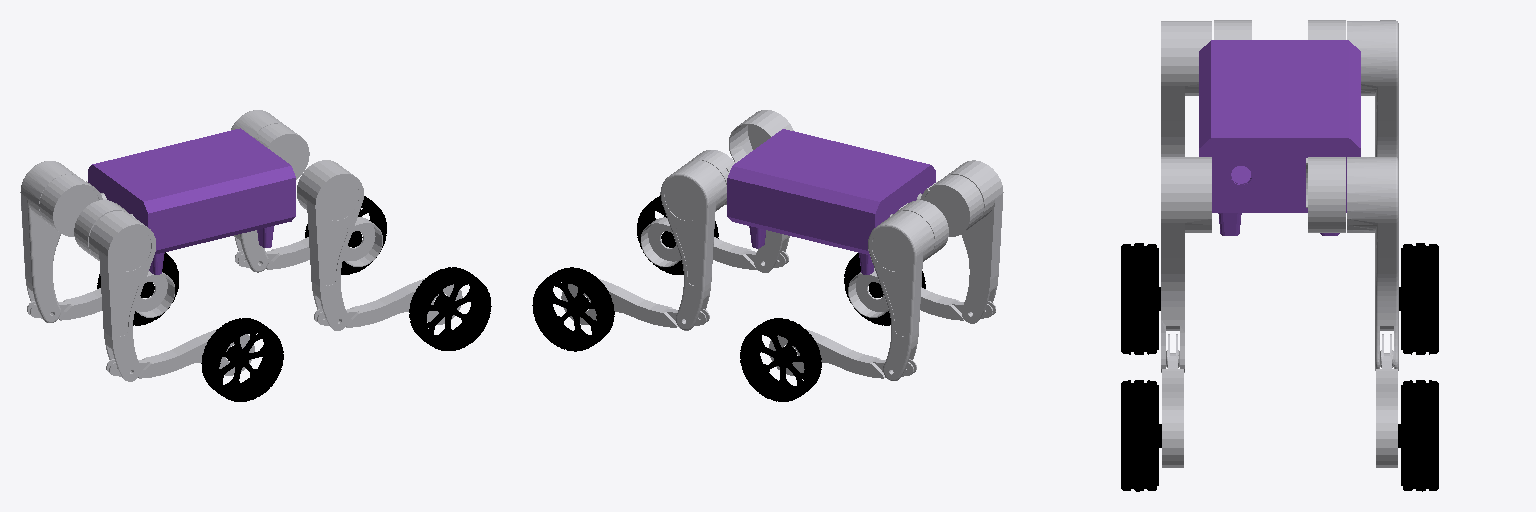
URDF robot description (dhav1w):
<?xml version="1.0" encoding="utf-8"?>
<!-- DHAV 1.3 wheeled (dhav1w).  Generated from the SolidWorks export
     "XTR_Dummy_Wheeled_DHAV_1.3_4 - V1.1" with corrected calf inertia pose
     and corrected left/right thigh inertia symmetry.  See ../NOTES.md. -->
<robot name="dhav1w">
  <mujoco>
    <compiler meshdir="../meshes/" discardvisual="false"/>
  </mujoco>
  <material name="purple">
    <color rgba="0.541 0.337 0.722 1.0"/>
  </material>
  <material name="aluminium">
    <color rgba="0.8 0.8 0.82 1.0"/>
  </material>
  <material name="black">
    <color rgba="0.0 0.0 0.0 1.0"/>
  </material>
  <link name="base">
    <inertial>
      <origin xyz="0 0 -0.011647" rpy="0 0 0"/>
      <mass value="7.87906075"/>
      <inertia ixx="0.03603948" ixy="-0.00013803" ixz="-0.00007439" iyy="0.09487694" iyz="0.00002758" izz="0.11626709" />
    </inertial>
    <visual>
      <origin xyz="0 0 0" rpy="0 0 0"/>
      <geometry>
        <mesh filename="package://dhav1w_description/meshes/torso.STL"/>
      </geometry>
      <material name="purple"/>
    </visual>
    <collision>
      <origin xyz="0 0 0" rpy="0 0 0"/>
      <geometry>
        <box size="0.3562 0.20 0.114"/>
      </geometry>
    </collision>
    <collision>
      <origin xyz="0.12 0.07 -0.082" rpy="0 0 0"/>
      <geometry>
        <box size="0.02 0.03 0.05"/>
      </geometry>
    </collision>
    <collision>
      <origin xyz="0.12 -0.07 -0.082" rpy="0 0 0"/>
      <geometry>
        <box size="0.02 0.03 0.05"/>
      </geometry>
    </collision>
    <collision>
      <origin xyz="-0.12 0.07 -0.082" rpy="0 0 0"/>
      <geometry>
        <box size="0.02 0.03 0.05"/>
      </geometry>
    </collision>
    <collision>
      <origin xyz="-0.12 -0.07 -0.082" rpy="0 0 0"/>
      <geometry>
        <box size="0.02 0.03 0.05"/>
      </geometry>
    </collision>
  </link>
  <!-- IMU link -->
  <link name="imu_link"/>
  <joint name="base_to_imu" type="fixed">
    <parent link="base"/>
    <child link="imu_link"/>
    <origin xyz="0.07623 0.00875 0.00705" rpy="0 0 0"/>
  </joint>
  <link name="FL_hip_link">
    <inertial>
      <origin xyz="-0.0057414 0.0030508 -0.00000015" rpy="0 0 0"/>
      <mass value="0.81144848"/>
      <inertia ixx="0.00046498" ixy="0.00001172" ixz="-0.00000013" iyy="0.00097192" iyz="0.00000004" izz="0.000712" />
    </inertial>
    <visual>
      <origin xyz="0 0 0" rpy="0 0 0"/>
      <geometry>
        <mesh filename="package://dhav1w_description/meshes/FL_hip.STL"/>
      </geometry>
      <material name="aluminium"/>
    </visual>
    <collision>
      <origin xyz="0.0 0.06 0.0" rpy="1.57 0 0"/>
      <geometry>
        <cylinder length="0.1" radius="0.046"/>
      </geometry>
    </collision>
  </link>
  <link name="FL_thigh_link">
    <inertial>
      <origin xyz="-0.0074643 -0.0075133 -0.074231" rpy="0 0 0"/>
      <mass value="1.38185132"/>
      <inertia ixx="0.00817916" ixy="-0.00006601" ixz="0.00029421" iyy="0.00820121" iyz="-0.00099956" izz="0.00129555" />
    </inertial>
    <visual>
      <origin xyz="0 0 0" rpy="0 0 0"/>
      <geometry>
        <mesh filename="package://dhav1w_description/meshes/FL_thigh.STL"/>
      </geometry>
      <material name="aluminium"/>
    </visual>
    <collision>
      <origin xyz="-0.025 0.0 -0.13" rpy="0 -0.08 0"/>
      <geometry>
        <box size="0.03 0.02 0.15"/>
      </geometry>
    </collision>
    <collision>
      <origin xyz="0.0 0.0 -0.1" rpy="0 0.3 0"/>
      <geometry>
        <box size="0.03 0.02 0.09"/>
      </geometry>
    </collision>
  </link>
  <link name="FL_calf_link">
    <inertial>
      <origin xyz="0.0040567 0.00122578 -0.11950147" rpy="0 0 0"/>
      <mass value="0.65370687"/>
      <inertia ixx="0.0039675" ixy="-0.00000137" ixz="-0.00004951" iyy="0.00414518" iyz="0.00002014" izz="0.00028379" />
    </inertial>
    <visual>
      <origin xyz="0 0 0" rpy="0 0 0"/>
      <geometry>
        <mesh filename="package://dhav1w_description/meshes/FL_calf.STL"/>
      </geometry>
      <material name="aluminium"/>
    </visual>
    <collision>
      <origin xyz="-0.005 0.0 -0.02" rpy="0 0 0"/>
      <geometry>
        <cylinder length="0.04" radius="0.015"/>
      </geometry>
    </collision>
    <collision>
      <origin xyz="0.005 0.0 -0.11" rpy="0 -0.2 0"/>
      <geometry>
        <cylinder length="0.16" radius="0.015"/>
      </geometry>
    </collision>
    <collision>
      <origin xyz="0.017 0.0 -0.205" rpy="0 0.3 0"/>
      <geometry>
        <cylinder length="0.06" radius="0.015"/>
      </geometry>
    </collision>
  </link>
  <link name="FL_wheel">
    <inertial>
      <origin xyz="0.00000026 -0.0038565 0.00000018" rpy="0 0 0"/>
      <mass value="0.50020858"/>
      <inertia ixx="0.00103971" ixy="0" ixz="0" iyy="0.00187556" iyz="0" izz="0.00103971" />
    </inertial>
    <visual>
      <origin xyz="0 0 0" rpy="0 0 0"/>
      <geometry>
        <mesh filename="package://dhav1w_description/meshes/FL_wheel.STL"/>
      </geometry>
      <material name="black"/>
    </visual>
    <collision>
      <origin xyz="0 0 0" rpy="1.5708 0 0"/>
      <geometry>
        <cylinder length="0.052" radius="0.077"/>
      </geometry>
    </collision>
  </link>
  <link name="FR_hip_link">
    <inertial>
      <origin xyz="-0.0057414 -0.0030508 0.00000015" rpy="0 0 0"/>
      <mass value="0.81144848"/>
      <inertia ixx="0.00046498" ixy="-0.00001172" ixz="0.00000013" iyy="0.00097192" iyz="0.00000004" izz="0.000712" />
    </inertial>
    <visual>
      <origin xyz="0 0 0" rpy="0 0 0"/>
      <geometry>
        <mesh filename="package://dhav1w_description/meshes/FR_hip.STL"/>
      </geometry>
      <material name="aluminium"/>
    </visual>
    <collision>
      <origin xyz="0.0 -0.06 0.0" rpy="1.57 0 0"/>
      <geometry>
        <cylinder length="0.1" radius="0.046"/>
      </geometry>
    </collision>
  </link>
  <link name="FR_thigh_link">
    <inertial>
      <origin xyz="-0.0074643 0.0075133 -0.074231" rpy="0 0 0"/>
      <mass value="1.38185132"/>
      <inertia ixx="0.00817916" ixy="0.00006601" ixz="0.00029421" iyy="0.00820121" iyz="0.00099956" izz="0.00129555" />
    </inertial>
    <visual>
      <origin xyz="0 0 0" rpy="0 0 0"/>
      <geometry>
        <mesh filename="package://dhav1w_description/meshes/FR_thigh.STL"/>
      </geometry>
      <material name="aluminium"/>
    </visual>
    <collision>
      <origin xyz="-0.025 0.0 -0.13" rpy="0 -0.08 0"/>
      <geometry>
        <box size="0.03 0.02 0.15"/>
      </geometry>
    </collision>
    <collision>
      <origin xyz="0.0 0.0 -0.1" rpy="0 0.3 0"/>
      <geometry>
        <box size="0.03 0.02 0.09"/>
      </geometry>
    </collision>
  </link>
  <link name="FR_calf_link">
    <inertial>
      <origin xyz="0.0040567 -0.00122578 -0.11950147" rpy="0 0 0"/>
      <mass value="0.65370687"/>
      <inertia ixx="0.0039675" ixy="0.00000137" ixz="-0.00004951" iyy="0.00414518" iyz="-0.00002014" izz="0.00028379" />
    </inertial>
    <visual>
      <origin xyz="0 0 0" rpy="0 0 0"/>
      <geometry>
        <mesh filename="package://dhav1w_description/meshes/FR_calf.STL"/>
      </geometry>
      <material name="aluminium"/>
    </visual>
    <collision>
      <origin xyz="-0.005 0.0 -0.02" rpy="0 0 0"/>
      <geometry>
        <cylinder length="0.04" radius="0.015"/>
      </geometry>
    </collision>
    <collision>
      <origin xyz="0.005 0.0 -0.11" rpy="0 -0.2 0"/>
      <geometry>
        <cylinder length="0.16" radius="0.015"/>
      </geometry>
    </collision>
    <collision>
      <origin xyz="0.017 0.0 -0.205" rpy="0 0.3 0"/>
      <geometry>
        <cylinder length="0.06" radius="0.015"/>
      </geometry>
    </collision>
  </link>
  <link name="FR_wheel">
    <inertial>
      <origin xyz="0.00000026 0.0038565 -0.00000018" rpy="0 0 0"/>
      <mass value="0.50020858"/>
      <inertia ixx="0.00103971" ixy="0" ixz="0" iyy="0.00187556" iyz="0" izz="0.00103971" />
    </inertial>
    <visual>
      <origin xyz="0 0 0" rpy="0 0 0"/>
      <geometry>
        <mesh filename="package://dhav1w_description/meshes/FR_wheel.STL"/>
      </geometry>
      <material name="black"/>
    </visual>
    <collision>
      <origin xyz="0 0 0" rpy="1.5708 0 0"/>
      <geometry>
        <cylinder length="0.052" radius="0.077"/>
      </geometry>
    </collision>
  </link>
  <link name="RL_hip_link">
    <inertial>
      <origin xyz="0.0057414 0.0030508 0.00000015" rpy="0 0 0"/>
      <mass value="0.81144848"/>
      <inertia ixx="0.00046498" ixy="-0.00001172" ixz="-0.00000013" iyy="0.00097192" iyz="-0.00000004" izz="0.000712" />
    </inertial>
    <visual>
      <origin xyz="0 0 0" rpy="0 0 0"/>
      <geometry>
        <mesh filename="package://dhav1w_description/meshes/RL_hip.STL"/>
      </geometry>
      <material name="aluminium"/>
    </visual>
    <collision>
      <origin xyz="0.0 0.06 0.0" rpy="1.57 0 0"/>
      <geometry>
        <cylinder length="0.1" radius="0.046"/>
      </geometry>
    </collision>
  </link>
  <link name="RL_thigh_link">
    <inertial>
      <origin xyz="-0.0074643 -0.0075133 -0.074231" rpy="0 0 0"/>
      <mass value="1.38185132"/>
      <inertia ixx="0.00817916" ixy="-0.00006601" ixz="0.00029421" iyy="0.00820121" iyz="-0.00099956" izz="0.00129555" />
    </inertial>
    <visual>
      <origin xyz="0 0 0" rpy="0 0 0"/>
      <geometry>
        <mesh filename="package://dhav1w_description/meshes/RL_thigh.STL"/>
      </geometry>
      <material name="aluminium"/>
    </visual>
    <collision>
      <origin xyz="-0.025 0.0 -0.13" rpy="0 -0.08 0"/>
      <geometry>
        <box size="0.03 0.02 0.15"/>
      </geometry>
    </collision>
    <collision>
      <origin xyz="0.0 0.0 -0.1" rpy="0 0.3 0"/>
      <geometry>
        <box size="0.03 0.02 0.09"/>
      </geometry>
    </collision>
  </link>
  <link name="RL_calf_link">
    <inertial>
      <origin xyz="0.0040567 0.0012258 -0.1195" rpy="0 0 0"/>
      <mass value="0.6537291"/>
      <inertia ixx="0.00396804" ixy="-0.00000136" ixz="-0.0000496" iyy="0.00414573" iyz="0.00002012" izz="0.0002838" />
    </inertial>
    <visual>
      <origin xyz="0 0 0" rpy="0 0 0"/>
      <geometry>
        <mesh filename="package://dhav1w_description/meshes/RL_calf.STL"/>
      </geometry>
      <material name="aluminium"/>
    </visual>
    <collision>
      <origin xyz="-0.005 0.0 -0.02" rpy="0 0 0"/>
      <geometry>
        <cylinder length="0.04" radius="0.015"/>
      </geometry>
    </collision>
    <collision>
      <origin xyz="0.005 0.0 -0.11" rpy="0 -0.2 0"/>
      <geometry>
        <cylinder length="0.16" radius="0.015"/>
      </geometry>
    </collision>
    <collision>
      <origin xyz="0.017 0.0 -0.205" rpy="0 0.3 0"/>
      <geometry>
        <cylinder length="0.06" radius="0.015"/>
      </geometry>
    </collision>
  </link>
  <link name="RL_wheel">
    <inertial>
      <origin xyz="-0.0000003 -0.0038565 -0.00000009" rpy="0 0 0"/>
      <mass value="0.50020858"/>
      <inertia ixx="0.00103971" ixy="0" ixz="0" iyy="0.00187556" iyz="0" izz="0.00103971" />
    </inertial>
    <visual>
      <origin xyz="0 0 0" rpy="0 0 0"/>
      <geometry>
        <mesh filename="package://dhav1w_description/meshes/RL_wheel.STL"/>
      </geometry>
      <material name="black"/>
    </visual>
    <collision>
      <origin xyz="0 0 0" rpy="1.5708 0 0"/>
      <geometry>
        <cylinder length="0.052" radius="0.077"/>
      </geometry>
    </collision>
  </link>
  <link name="RR_hip_link">
    <inertial>
      <origin xyz="0.0057414 -0.0030508 -0.00000015" rpy="0 0 0"/>
      <mass value="0.81144848"/>
      <inertia ixx="0.00046498" ixy="0.00001172" ixz="0.00000013" iyy="0.00097192" iyz="-0.00000004" izz="0.000712" />
    </inertial>
    <visual>
      <origin xyz="0 0 0" rpy="0 0 0"/>
      <geometry>
        <mesh filename="package://dhav1w_description/meshes/RR_hip.STL"/>
      </geometry>
      <material name="aluminium"/>
    </visual>
    <collision>
      <origin xyz="0.0 -0.06 0.0" rpy="1.57 0 0"/>
      <geometry>
        <cylinder length="0.1" radius="0.046"/>
      </geometry>
    </collision>
  </link>
  <link name="RR_thigh_link">
    <inertial>
      <origin xyz="-0.0074643 0.0075133 -0.074231" rpy="0 0 0"/>
      <mass value="1.38185132"/>
      <inertia ixx="0.00817916" ixy="0.00006601" ixz="0.00029421" iyy="0.00820121" iyz="0.00099956" izz="0.00129555" />
    </inertial>
    <visual>
      <origin xyz="0 0 0" rpy="0 0 0"/>
      <geometry>
        <mesh filename="package://dhav1w_description/meshes/RR_thigh.STL"/>
      </geometry>
      <material name="aluminium"/>
    </visual>
    <collision>
      <origin xyz="-0.025 0.0 -0.13" rpy="0 -0.08 0"/>
      <geometry>
        <box size="0.03 0.02 0.15"/>
      </geometry>
    </collision>
    <collision>
      <origin xyz="0.0 0.0 -0.1" rpy="0 0.3 0"/>
      <geometry>
        <box size="0.03 0.02 0.09"/>
      </geometry>
    </collision>
  </link>
  <link name="RR_calf_link">
    <inertial>
      <origin xyz="0.0040567 -0.0012258 -0.1195" rpy="0 0 0"/>
      <mass value="0.6537291"/>
      <inertia ixx="0.00396804" ixy="0.00000136" ixz="-0.0000496" iyy="0.00414573" iyz="-0.00002012" izz="0.0002838" />
    </inertial>
    <visual>
      <origin xyz="0 0 0" rpy="0 0 0"/>
      <geometry>
        <mesh filename="package://dhav1w_description/meshes/RR_calf.STL"/>
      </geometry>
      <material name="aluminium"/>
    </visual>
    <collision>
      <origin xyz="-0.005 0.0 -0.02" rpy="0 0 0"/>
      <geometry>
        <cylinder length="0.04" radius="0.015"/>
      </geometry>
    </collision>
    <collision>
      <origin xyz="0.005 0.0 -0.11" rpy="0 -0.2 0"/>
      <geometry>
        <cylinder length="0.16" radius="0.015"/>
      </geometry>
    </collision>
    <collision>
      <origin xyz="0.017 0.0 -0.205" rpy="0 0.3 0"/>
      <geometry>
        <cylinder length="0.06" radius="0.015"/>
      </geometry>
    </collision>
  </link>
  <link name="RR_wheel">
    <inertial>
      <origin xyz="-0.00000005 0.0038565 -0.00000031" rpy="0 0 0"/>
      <mass value="0.50020858"/>
      <inertia ixx="0.00103971" ixy="0" ixz="0" iyy="0.00187556" iyz="0" izz="0.00103971" />
    </inertial>
    <visual>
      <origin xyz="0 0 0" rpy="0 0 0"/>
      <geometry>
        <mesh filename="package://dhav1w_description/meshes/RR_wheel.STL"/>
      </geometry>
      <material name="black"/>
    </visual>
    <collision>
      <origin xyz="0 0 0" rpy="1.5708 0 0"/>
      <geometry>
        <cylinder length="0.052" radius="0.077"/>
      </geometry>
    </collision>
  </link>
  <joint name="FL_hip_joint" type="revolute">
    <origin xyz="0.2235 0.0535 0" rpy="0 0 0"/>
    <parent link="base"/>
    <child link="FL_hip_link"/>
    <axis xyz="1 0 0"/>
    <limit lower="-0.8378" upper="0.8378" effort="40" velocity="6.8"/>
  </joint>
  <joint name="FL_thigh_joint" type="revolute">
    <origin xyz="0 0.09435 0" rpy="0 0 0"/>
    <parent link="FL_hip_link"/>
    <child link="FL_thigh_link"/>
    <axis xyz="0 1 0"/>
    <limit lower="-1.7169" upper="2.5758" effort="40" velocity="6.8"/>
  </joint>
  <joint name="FL_calf_joint" type="revolute">
    <origin xyz="0 0 -0.25" rpy="0 0 0"/>
    <parent link="FL_thigh_link"/>
    <child link="FL_calf_link"/>
    <axis xyz="0 1 0"/>
    <limit lower="-2.8" upper="-0.212" effort="80" velocity="6.8"/>
  </joint>
  <joint name="FL_wheel_joint" type="continuous">
    <origin xyz="0 0.04596966 -0.22088353" rpy="0 0 0"/>
    <parent link="FL_calf_link"/>
    <child link="FL_wheel"/>
    <axis xyz="0 1 0"/>
    <limit effort="14" velocity="73"/>
  </joint>
  <joint name="FR_hip_joint" type="revolute">
    <origin xyz="0.2235 -0.0535 0" rpy="0 0 0"/>
    <parent link="base"/>
    <child link="FR_hip_link"/>
    <axis xyz="1 0 0"/>
    <limit lower="-0.8378" upper="0.8378" effort="40" velocity="6.8"/>
  </joint>
  <joint name="FR_thigh_joint" type="revolute">
    <origin xyz="0 -0.09435 0" rpy="0 0 0"/>
    <parent link="FR_hip_link"/>
    <child link="FR_thigh_link"/>
    <axis xyz="0 1 0"/>
    <limit lower="-1.7169" upper="2.5758" effort="40" velocity="6.8"/>
  </joint>
  <joint name="FR_calf_joint" type="revolute">
    <origin xyz="0 0 -0.25" rpy="0 0 0"/>
    <parent link="FR_thigh_link"/>
    <child link="FR_calf_link"/>
    <axis xyz="0 1 0"/>
    <limit lower="-2.8" upper="-0.212" effort="80" velocity="6.8"/>
  </joint>
  <joint name="FR_wheel_joint" type="continuous">
    <origin xyz="0 -0.04596966 -0.22088353" rpy="0 0 0"/>
    <parent link="FR_calf_link"/>
    <child link="FR_wheel"/>
    <axis xyz="0 1 0"/>
    <limit effort="14" velocity="73"/>
  </joint>
  <joint name="RL_hip_joint" type="revolute">
    <origin xyz="-0.2235 0.0535 0" rpy="0 0 0"/>
    <parent link="base"/>
    <child link="RL_hip_link"/>
    <axis xyz="1 0 0"/>
    <limit lower="-0.8378" upper="0.8378" effort="40" velocity="6.8"/>
  </joint>
  <joint name="RL_thigh_joint" type="revolute">
    <origin xyz="0 0.09435 0" rpy="0 0 0"/>
    <parent link="RL_hip_link"/>
    <child link="RL_thigh_link"/>
    <axis xyz="0 1 0"/>
    <limit lower="-1.7169" upper="2.5758" effort="40" velocity="6.8"/>
  </joint>
  <joint name="RL_calf_joint" type="revolute">
    <origin xyz="0 0 -0.25" rpy="0 0 0"/>
    <parent link="RL_thigh_link"/>
    <child link="RL_calf_link"/>
    <axis xyz="0 1 0"/>
    <limit lower="-2.8" upper="-0.212" effort="80" velocity="6.8"/>
  </joint>
  <joint name="RL_wheel_joint" type="continuous">
    <origin xyz="0 0.04596966 -0.22088353" rpy="0 0 0"/>
    <parent link="RL_calf_link"/>
    <child link="RL_wheel"/>
    <axis xyz="0 1 0"/>
    <limit effort="14" velocity="73"/>
  </joint>
  <joint name="RR_hip_joint" type="revolute">
    <origin xyz="-0.2235 -0.0535 0" rpy="0 0 0"/>
    <parent link="base"/>
    <child link="RR_hip_link"/>
    <axis xyz="1 0 0"/>
    <limit lower="-0.8378" upper="0.8378" effort="40" velocity="6.8"/>
  </joint>
  <joint name="RR_thigh_joint" type="revolute">
    <origin xyz="0 -0.09435 0" rpy="0 0 0"/>
    <parent link="RR_hip_link"/>
    <child link="RR_thigh_link"/>
    <axis xyz="0 1 0"/>
    <limit lower="-1.7169" upper="2.5758" effort="40" velocity="6.8"/>
  </joint>
  <joint name="RR_calf_joint" type="revolute">
    <origin xyz="0 0 -0.25" rpy="0 0 0"/>
    <parent link="RR_thigh_link"/>
    <child link="RR_calf_link"/>
    <axis xyz="0 1 0"/>
    <limit lower="-2.8" upper="-0.212" effort="80" velocity="6.8"/>
  </joint>
  <joint name="RR_wheel_joint" type="continuous">
    <origin xyz="0 -0.04596966 -0.22088353" rpy="0 0 0"/>
    <parent link="RR_calf_link"/>
    <child link="RR_wheel"/>
    <axis xyz="0 1 0"/>
    <limit effort="14" velocity="73"/>
  </joint>
</robot>

--- Render facts (derived) ---
Views: 3 orthographic renders of the robot side by side, from view 1: azimuth 30°, elevation 25°; view 2: azimuth 150°, elevation 25°; view 3: azimuth 270°, elevation 25°.
Model dhav1w with 18 links and 17 joints (12 revolute, 4 continuous, 1 fixed), rooted at base, posed joints at zero except 4 at the middle of their limits (FL_calf_joint = -1.51, FR_calf_joint = -1.51, RL_calf_joint = -1.51, RR_calf_joint = -1.51).
Links seen in each view (by area): view 1: base, FR_thigh_link, RR_thigh_link, RR_wheel, FR_wheel, RL_thigh_link, RL_hip_link, FL_calf_link, RL_calf_link, RR_calf_link, FR_calf_link, FL_hip_link (+4 smaller); view 2: base, RL_thigh_link, FL_thigh_link, FL_wheel, RL_wheel, RR_thigh_link, FR_thigh_link, RR_hip_link, FR_calf_link, RR_calf_link, FL_calf_link, RL_calf_link (+4 smaller); view 3: base, FL_thigh_link, FR_thigh_link, RL_thigh_link, RR_thigh_link, FR_wheel, FL_wheel, RR_wheel, RL_wheel, FL_hip_link, FL_calf_link, FR_calf_link (+2 smaller).
Boxes of the visible links, x1,y1,x2,y2 form: base: (88,128,295,274); FR_thigh_link: (297,160,363,330); RR_thigh_link: (89,211,155,381); RR_wheel: (201,318,283,401); FR_wheel: (409,267,491,350); RL_thigh_link: (20,161,76,322); RL_hip_link: (39,174,106,236); FL_calf_link: (235,217,382,269); RL_calf_link: (27,271,174,320); RR_calf_link: (106,329,254,378); FR_calf_link: (314,279,462,327); FL_hip_link: (253,124,309,179); base: (727,129,935,274); RL_thigh_link: (868,211,934,380); FL_thigh_link: (660,160,726,330); FL_wheel: (532,267,614,351); RL_wheel: (740,318,821,401); RR_thigh_link: (945,160,1003,323); FR_thigh_link: (729,110,793,272); RR_hip_link: (917,175,983,236); FR_calf_link: (641,217,788,269); RR_calf_link: (848,268,995,320); FL_calf_link: (561,279,709,327); RL_calf_link: (769,329,916,378); base: (1199,40,1360,235); FL_thigh_link: (1347,157,1398,370); FR_thigh_link: (1161,157,1211,372); RL_thigh_link: (1347,20,1398,159); RR_thigh_link: (1161,21,1211,156); FR_wheel: (1121,380,1161,491); FL_wheel: (1398,380,1438,491); RR_wheel: (1121,243,1160,354); RL_wheel: (1399,243,1438,354); FL_hip_link: (1306,157,1345,232); FL_calf_link: (1376,334,1397,467); FR_calf_link: (1162,334,1183,467).
Size in the robot's own frame: 0.7969 by 0.4397 by 0.3988 metres.
Meshes: 17 distinct files referenced, 16 mesh visuals loaded (16 binary STL); not drawn: 1 (reference not matched to a file when rendering).
